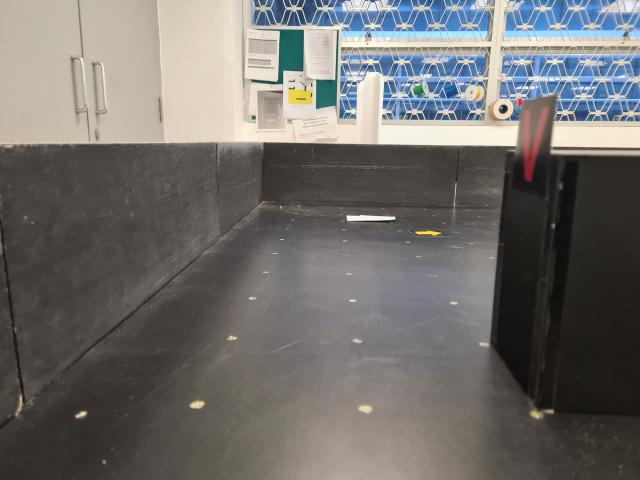alphabet_v: (514, 95, 554, 198)
